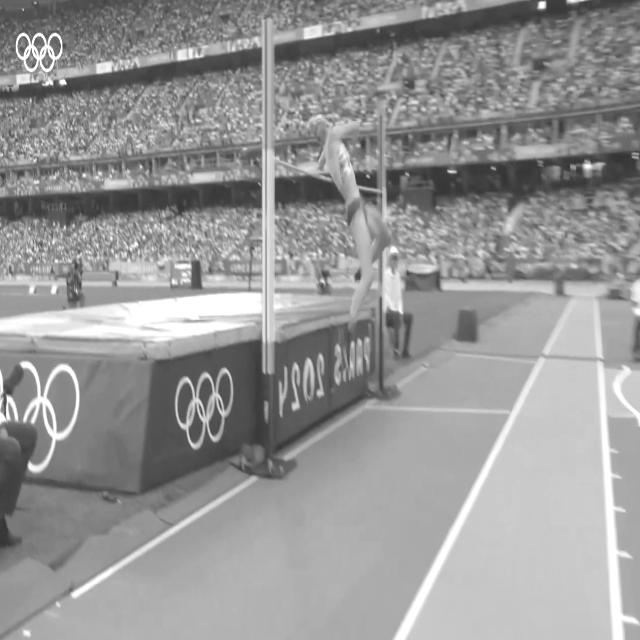jump: (305, 111, 391, 368)
